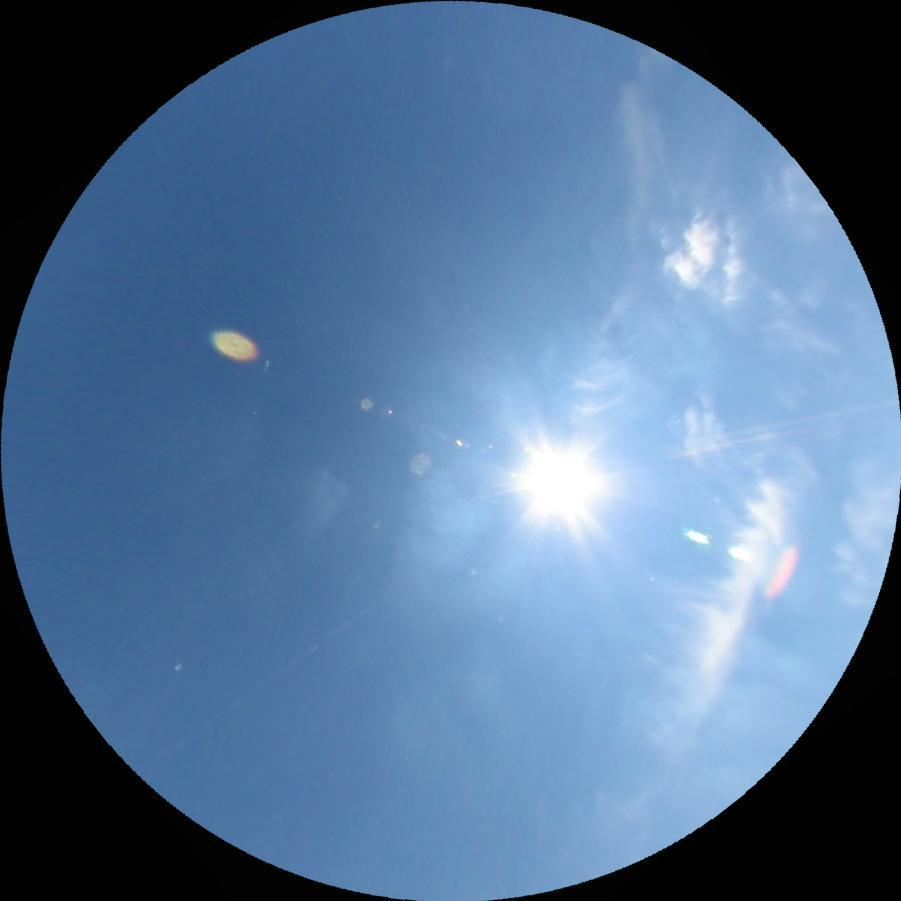contrail veryold: (566, 45, 673, 452)
parasite: (135, 601, 374, 776), (719, 397, 898, 437), (673, 420, 817, 460)
sun: (508, 433, 604, 530)
unknow: (484, 496, 498, 503)
